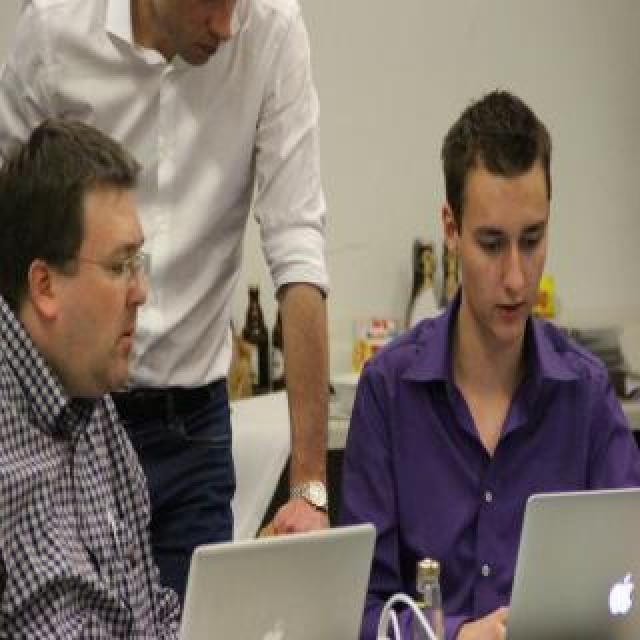laptop_computer: (168, 496, 398, 640), (505, 443, 640, 640)
